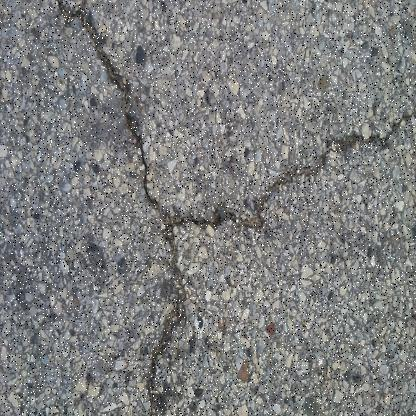Cracks: (56, 0, 190, 416), (163, 106, 416, 247)
